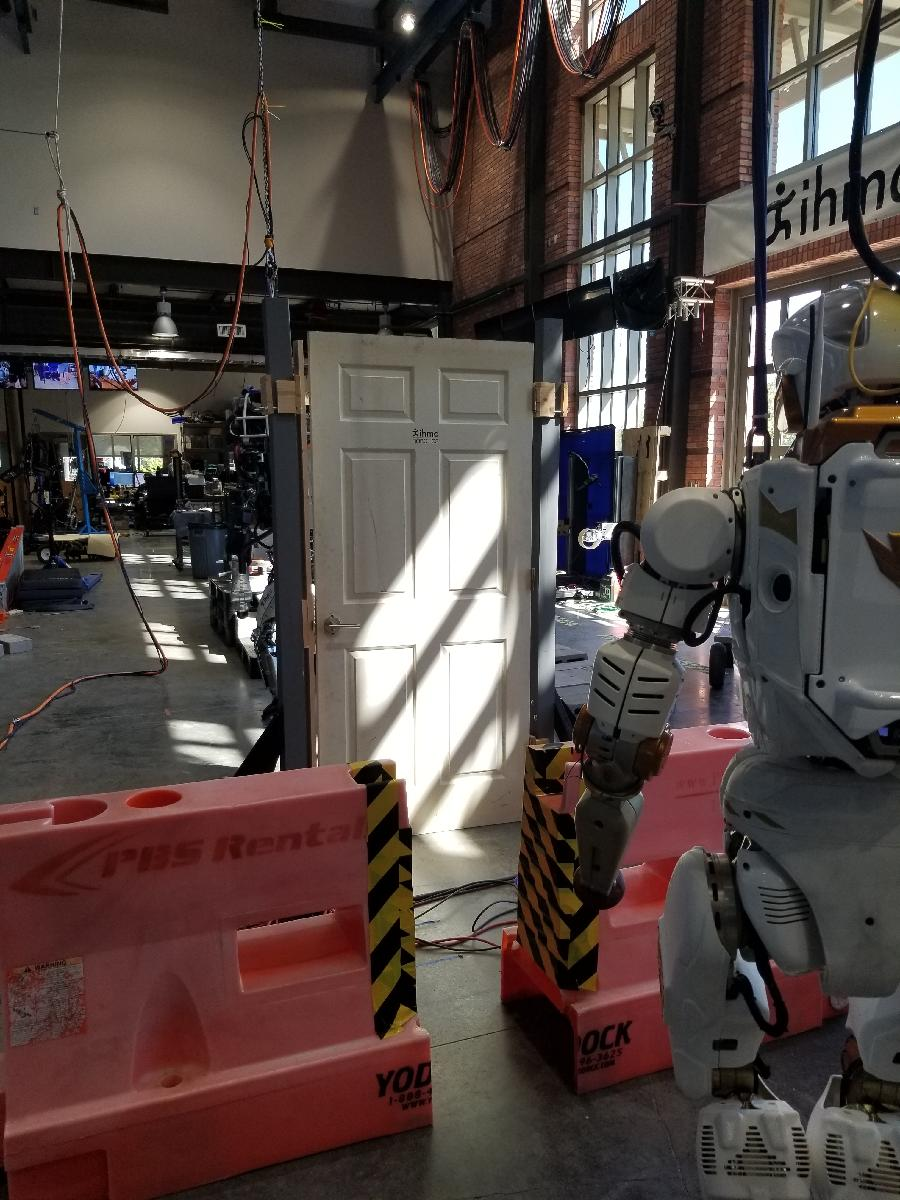door: (300, 321, 536, 844)
doorHandle: (320, 610, 372, 645)
